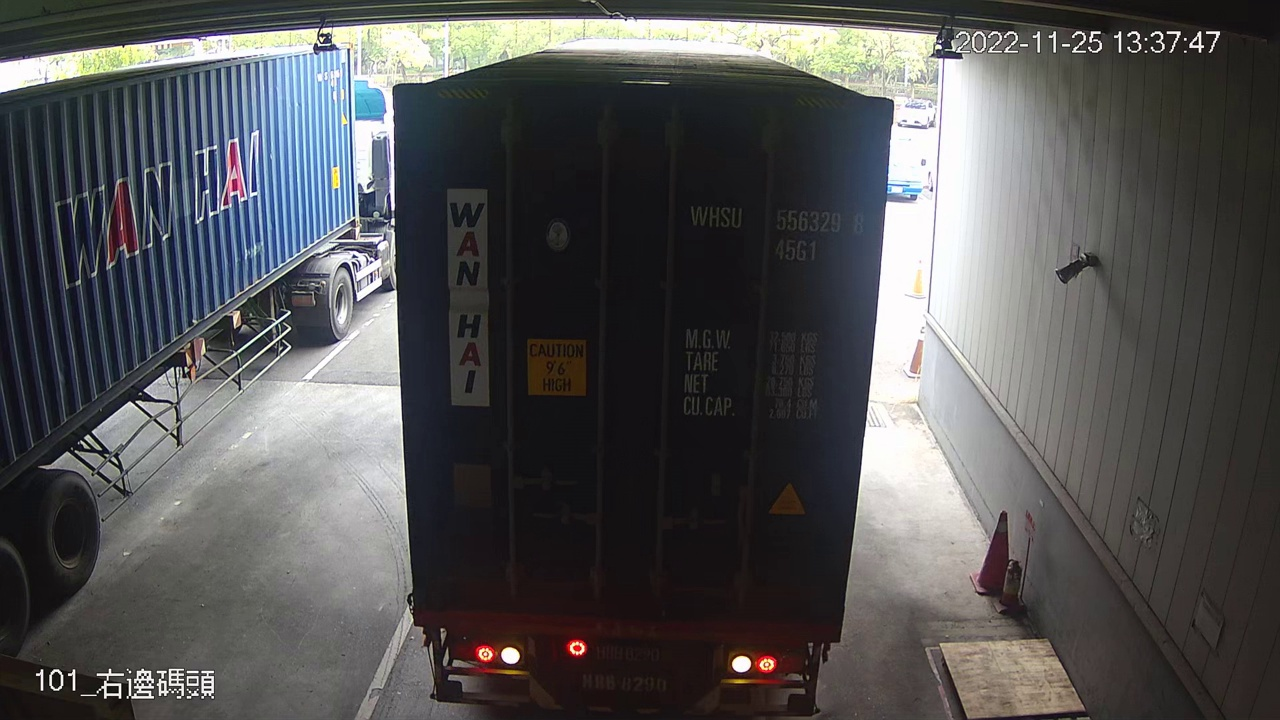container: (685, 196, 871, 270)
